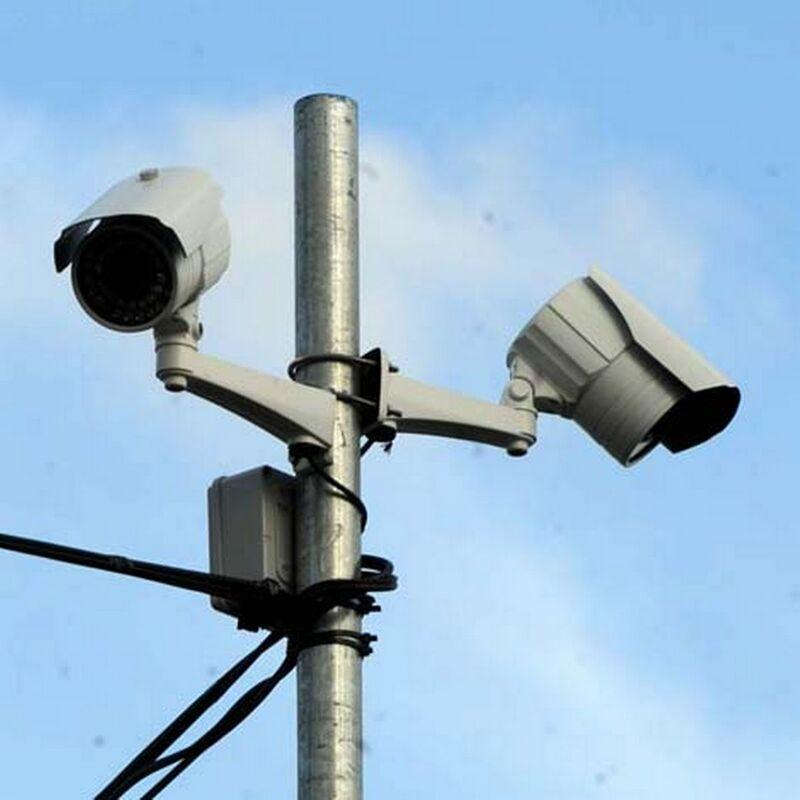bullet: (489, 265, 743, 468), (55, 166, 235, 326)
